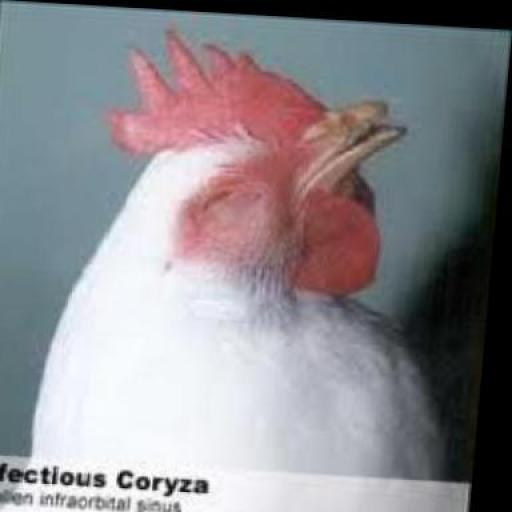disease: (171, 159, 266, 246)
